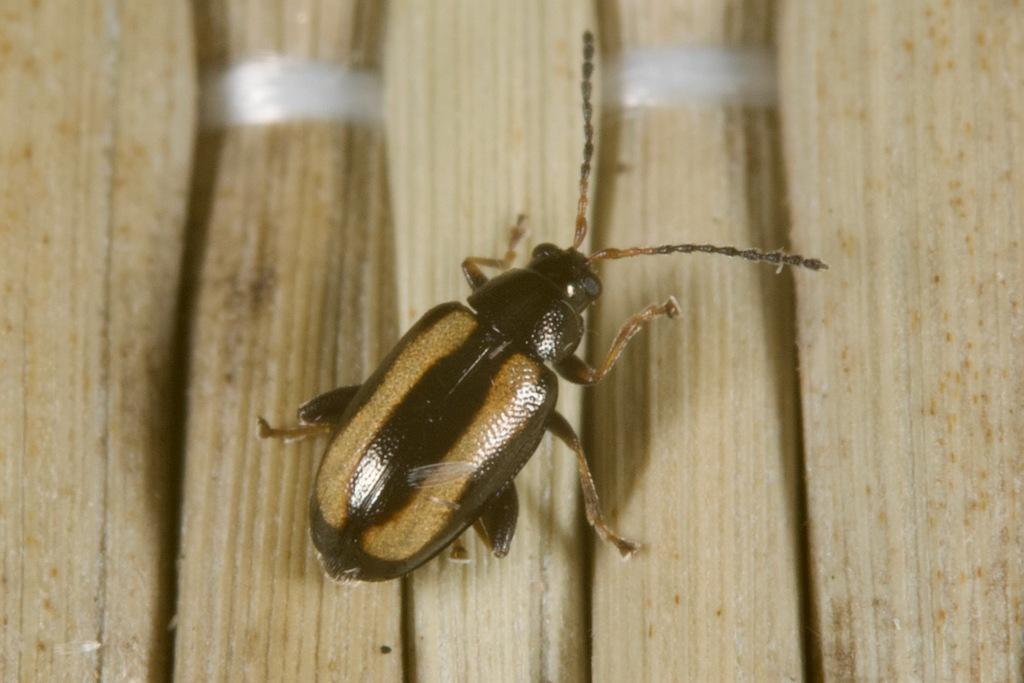flea_beetle: (178, 13, 883, 654)
